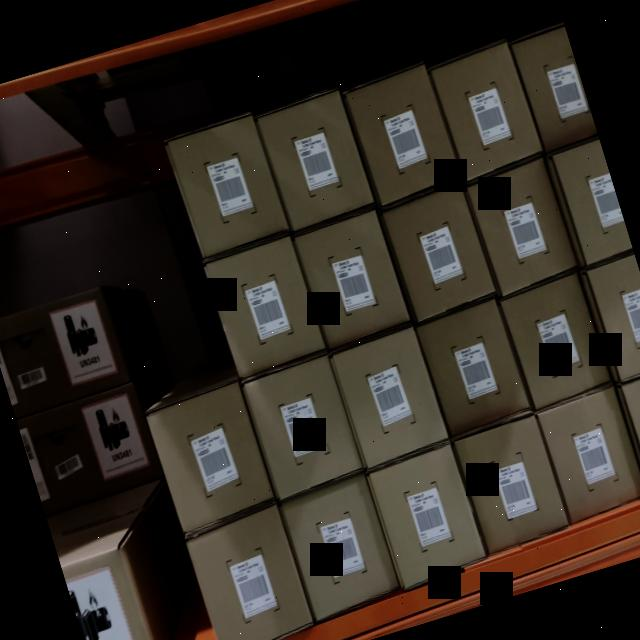box: (146, 386, 274, 528), (242, 354, 363, 496), (183, 510, 314, 640), (168, 116, 288, 257), (332, 328, 448, 466), (281, 478, 397, 616), (207, 240, 324, 375), (454, 420, 570, 549), (381, 185, 494, 317), (432, 46, 543, 179), (260, 97, 372, 228), (420, 303, 530, 436), (298, 213, 409, 344), (370, 449, 478, 580), (504, 276, 612, 406), (467, 162, 575, 290), (351, 71, 456, 198), (540, 392, 640, 520)
